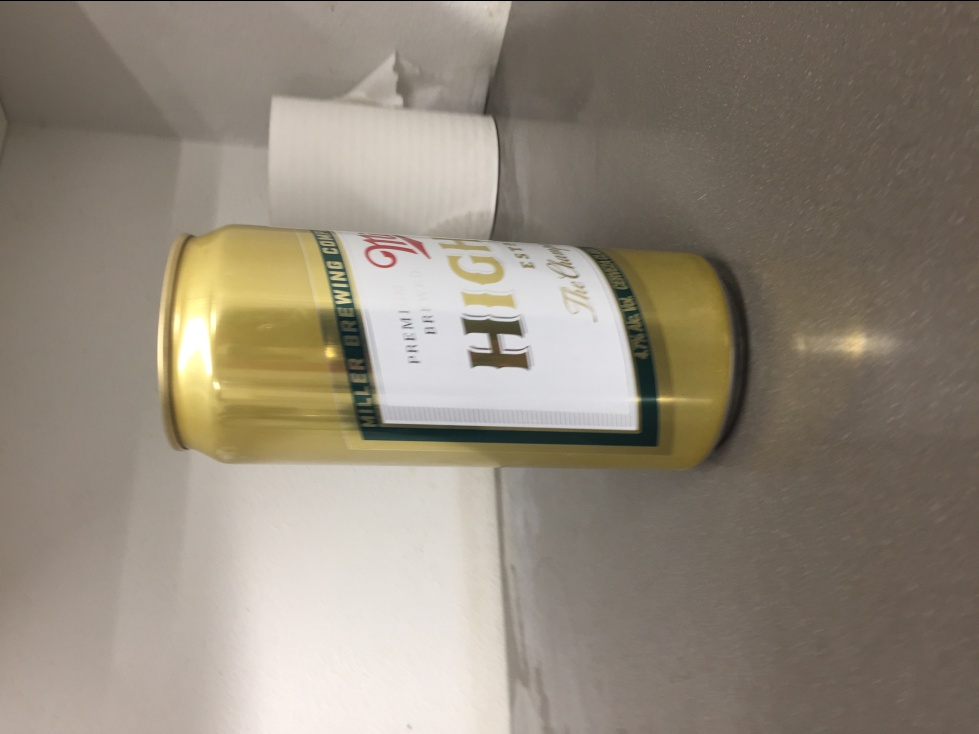miller: (155, 222, 741, 472)
